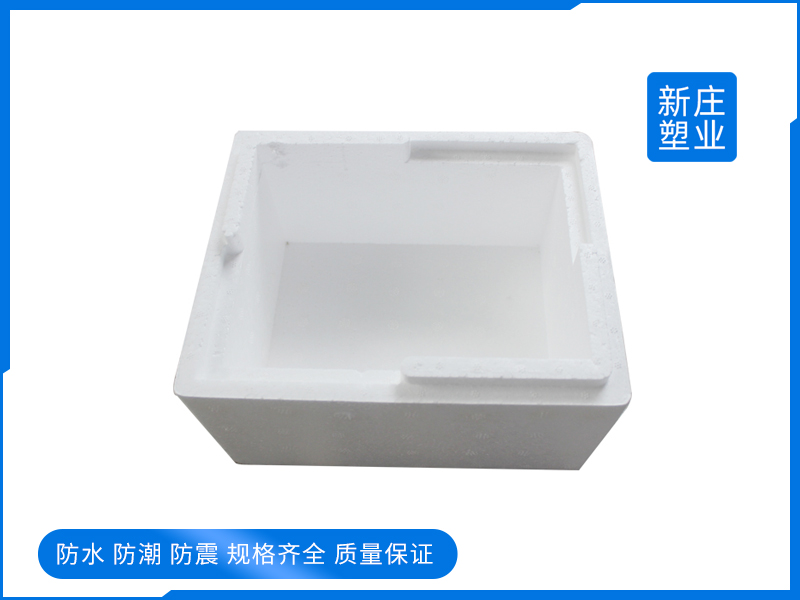泡沫箱: (174, 132, 630, 469)
